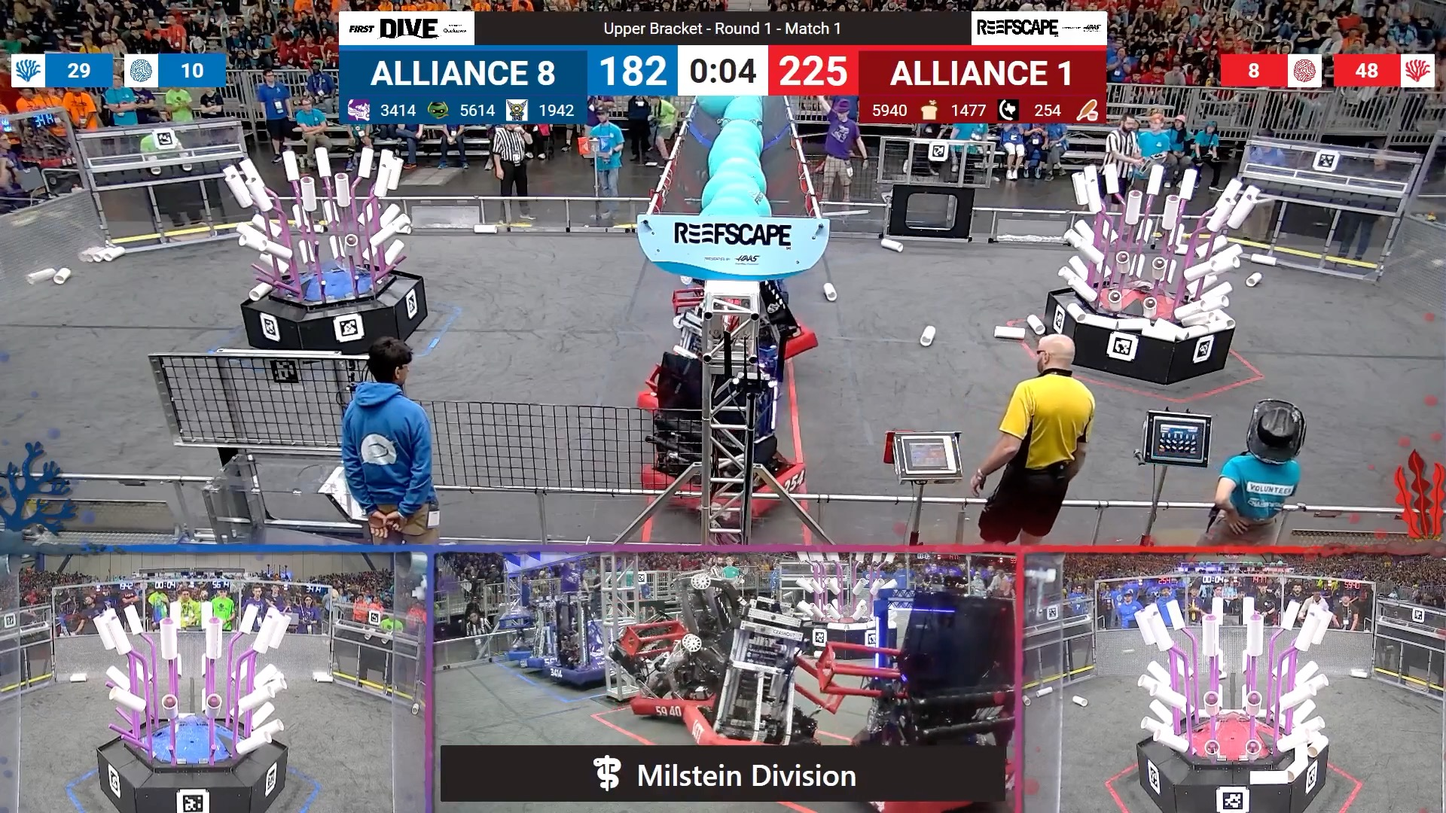bumpers: (644, 448, 812, 524), (681, 709, 784, 747), (629, 681, 724, 720), (519, 656, 623, 687), (773, 326, 828, 375), (509, 653, 562, 670)
